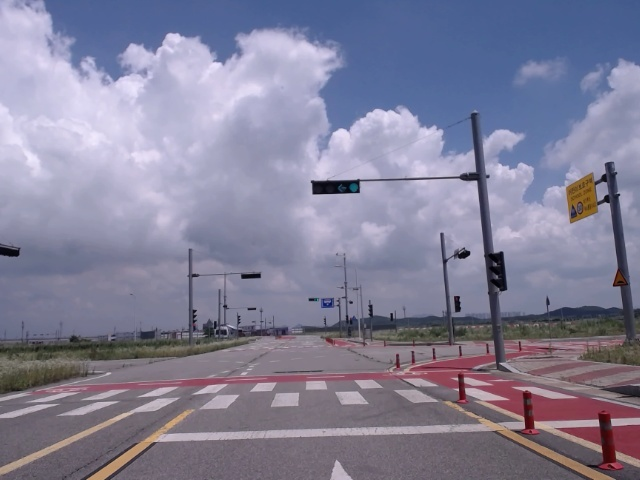all_green_4: (315, 182, 361, 193)
